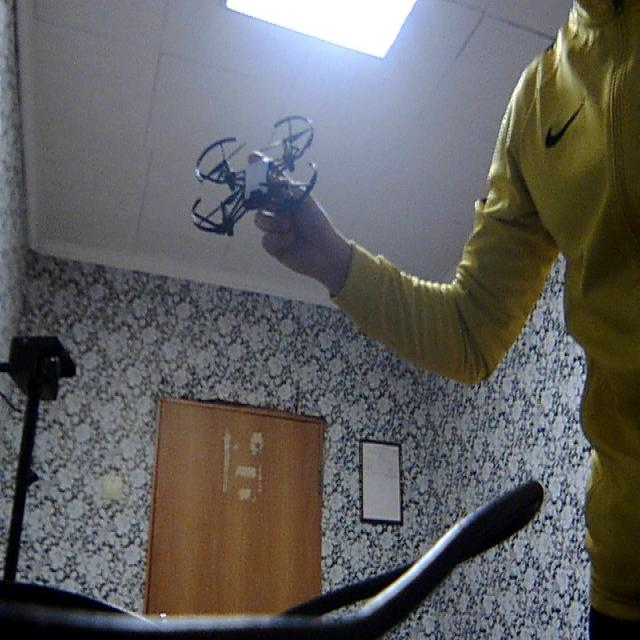drone: (182, 102, 344, 251)
